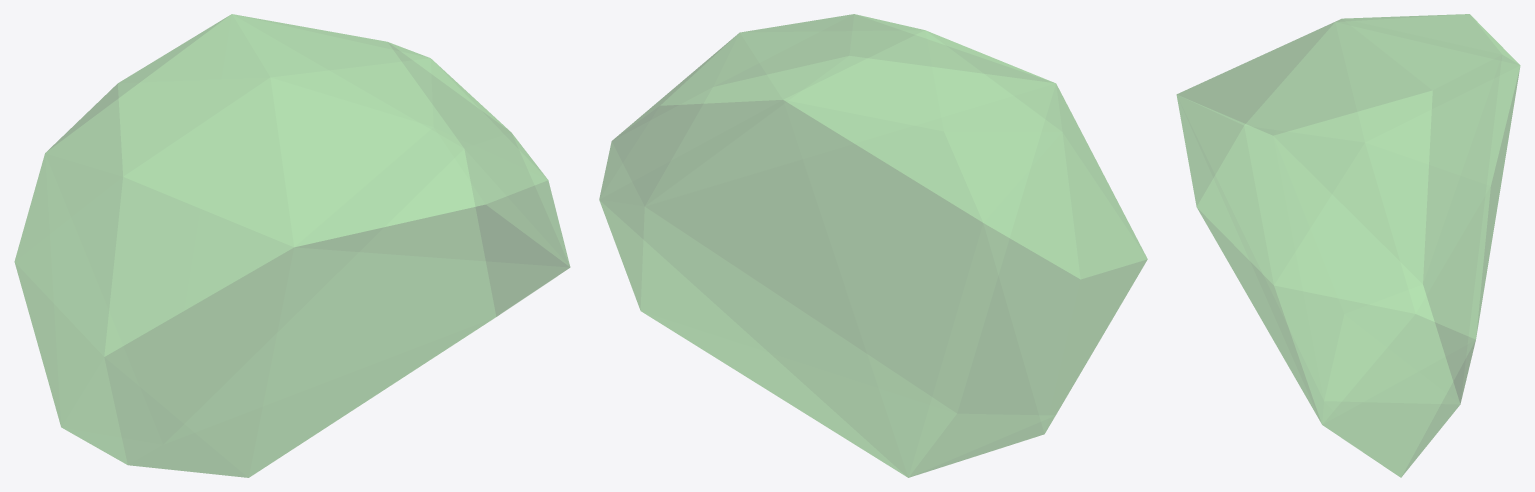
Rendered from LLEG_JOINT0_com_constraints.dae.
The picture shows the model from 3 angles, left to right: view 1: azimuth 30°, elevation 25°; view 2: azimuth 150°, elevation 25°; view 3: azimuth 270°, elevation 25°; orthographic projection. The views are drawn at different scales.
Visible parts, largest first — view 1: foo_002; view 2: foo_002; view 3: foo_002.
Part boxes in pixels (x1,y1,x2,y2): foo_002: [14, 14, 570, 477]; foo_002: [599, 14, 1147, 477]; foo_002: [1176, 14, 1520, 477].
Size of the model in its own units: 1.6 by 0.944 by 1.22.
